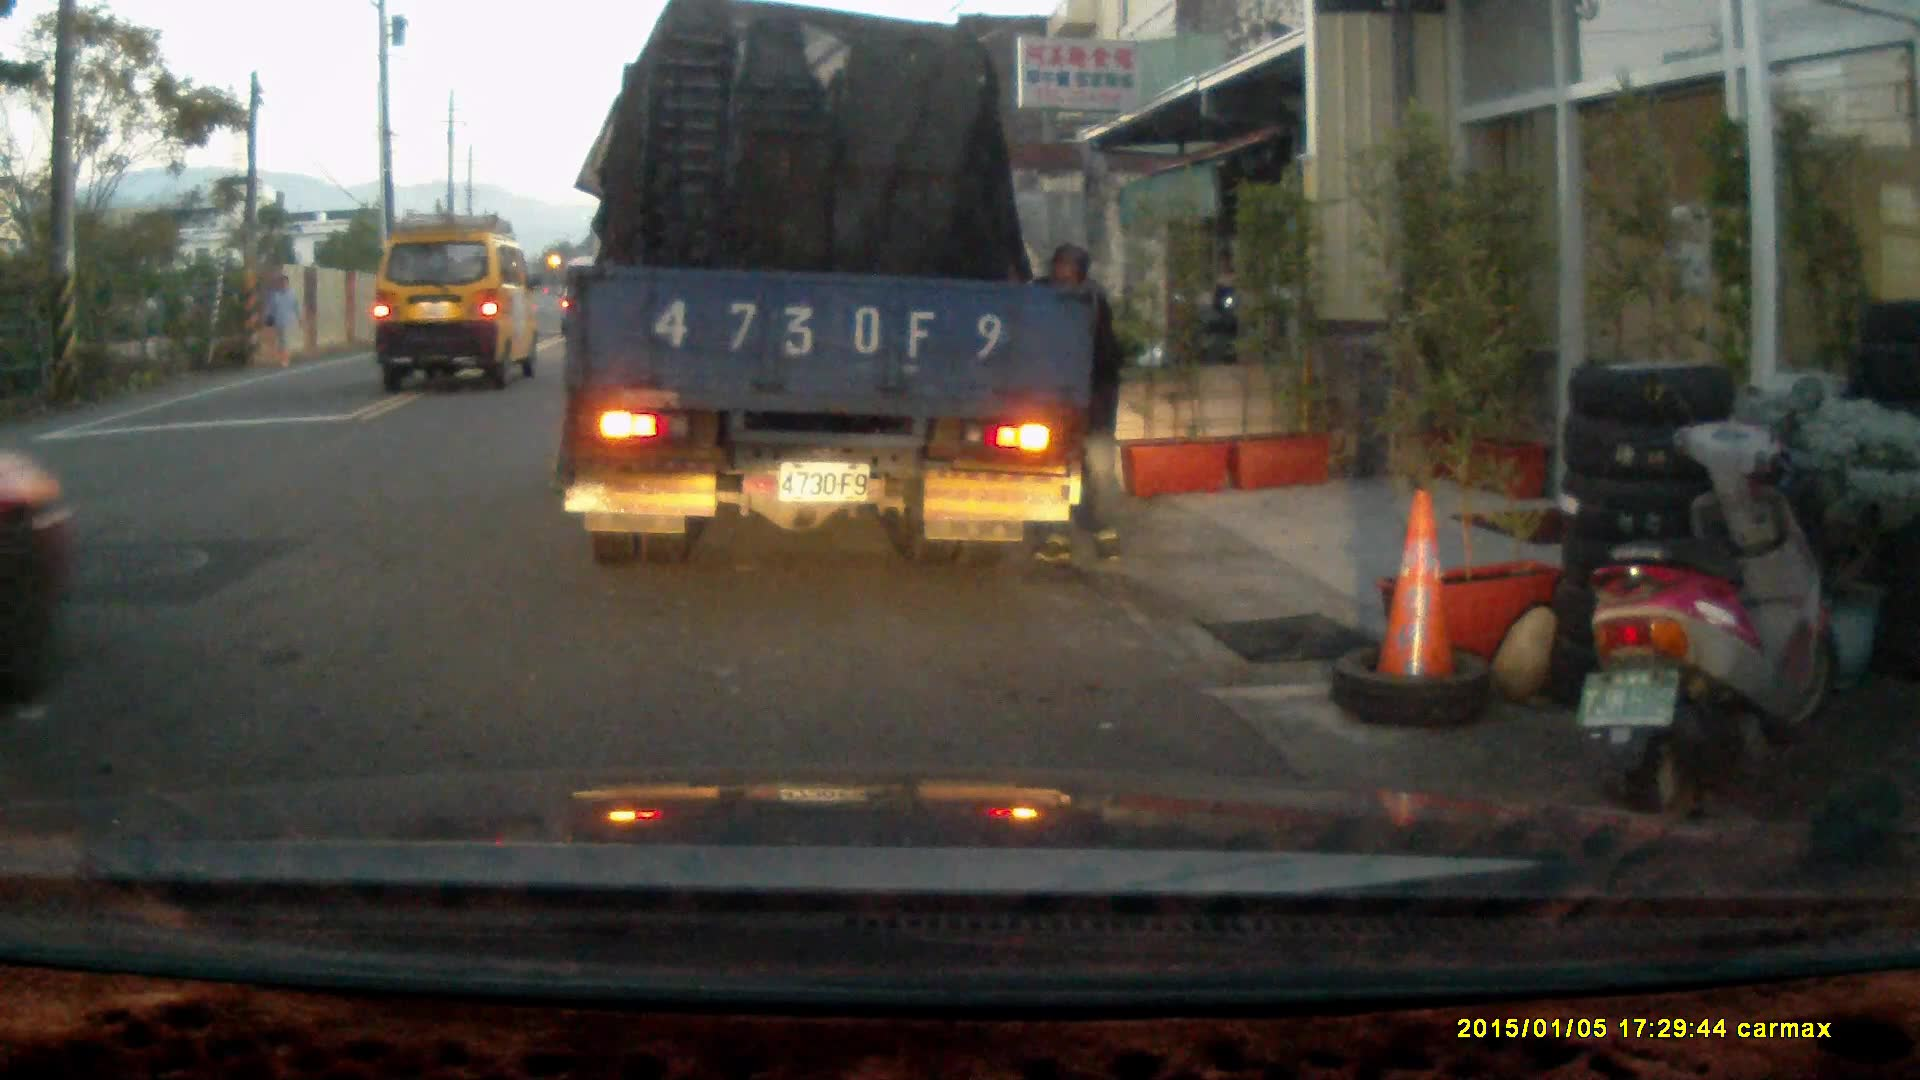pedestrian: (1019, 242, 1128, 571), (259, 276, 298, 368)
vehicle: (564, 23, 1094, 567), (371, 231, 546, 391), (1, 423, 81, 686)
